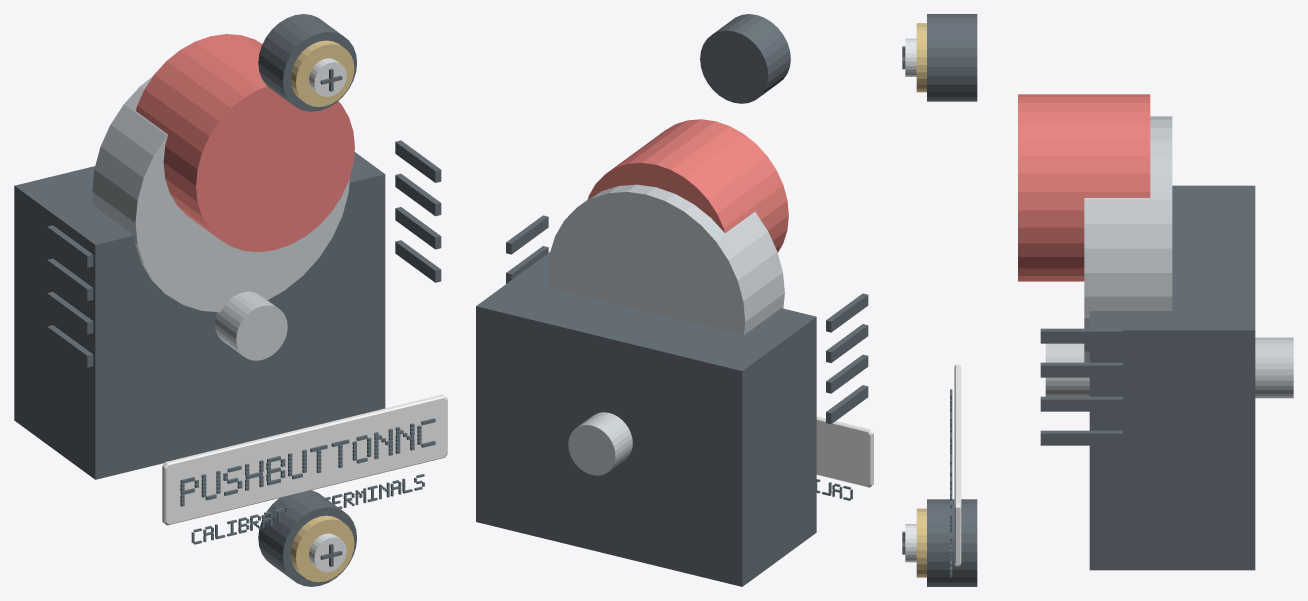
The model's file is pushButtonNC.glb.
3 renders of one model, left to right at view 1: azimuth 30°, elevation 25°; view 2: azimuth 150°, elevation 25°; view 3: azimuth 270°, elevation 25°, orthographic. The views are drawn at different scales.
Parts seen in each view (by area): view 1: pushButtonNC-detailed; view 2: pushButtonNC-detailed; view 3: pushButtonNC-detailed.
Part boxes in pixels (bbox=[...]): pushButtonNC-detailed: bbox=[14, 14, 447, 586]; pushButtonNC-detailed: bbox=[476, 14, 873, 586]; pushButtonNC-detailed: bbox=[902, 14, 1293, 586].
Bounding box in the file's own units: 1.49 × 2.23 × 1.4.
